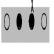correct: (16, 13, 22, 30)
not correct: (28, 0, 35, 32)
